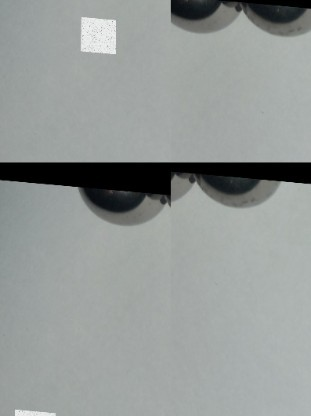ironball: (79, 188, 166, 230), (190, 177, 286, 210), (170, 0, 248, 32), (243, 0, 309, 34)
